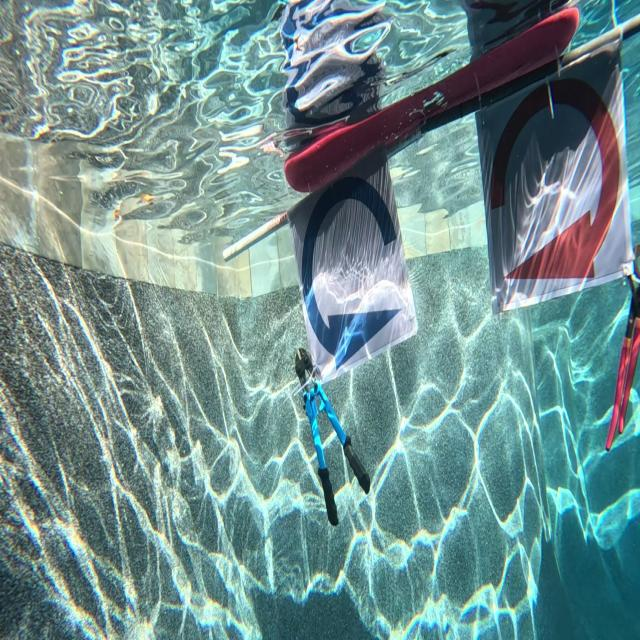blue_side: (291, 153, 415, 372)
red_side: (463, 36, 634, 312)
